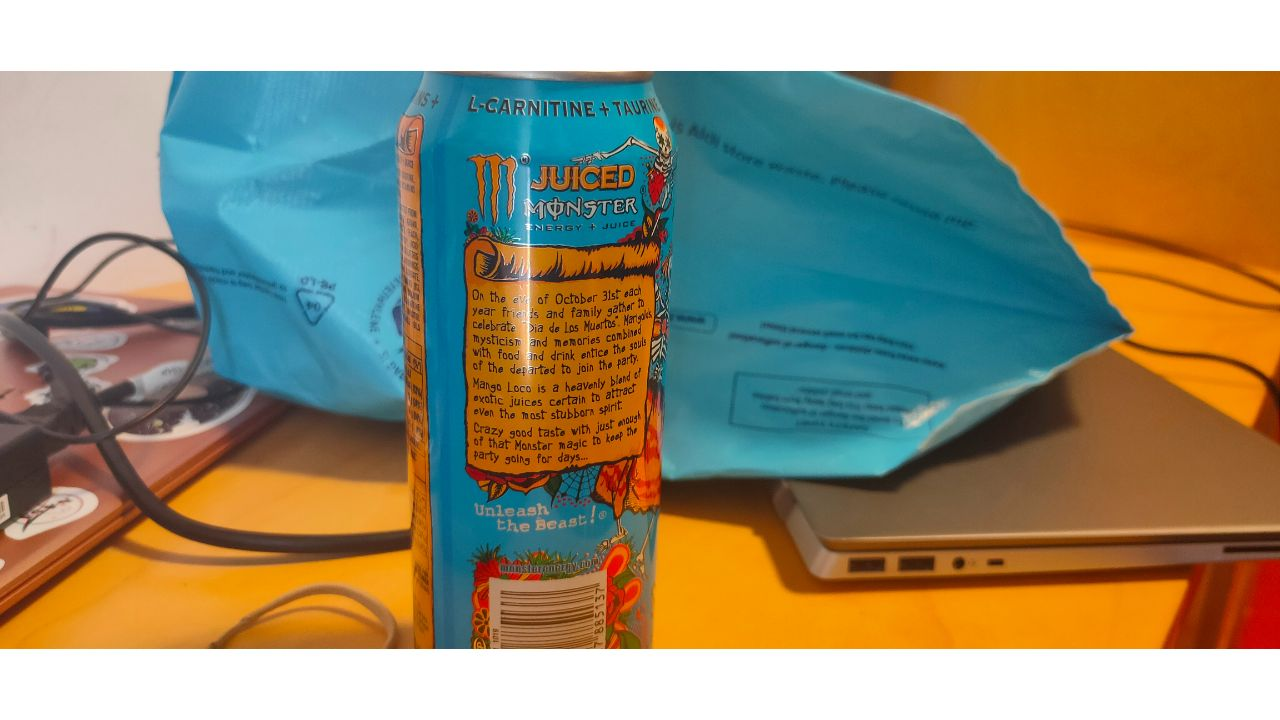Can: (397, 72, 674, 647)
